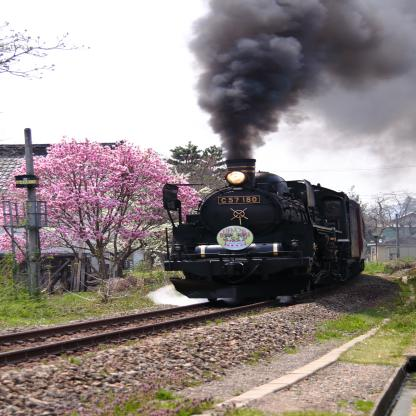Mokuren: (2, 135, 205, 270)
